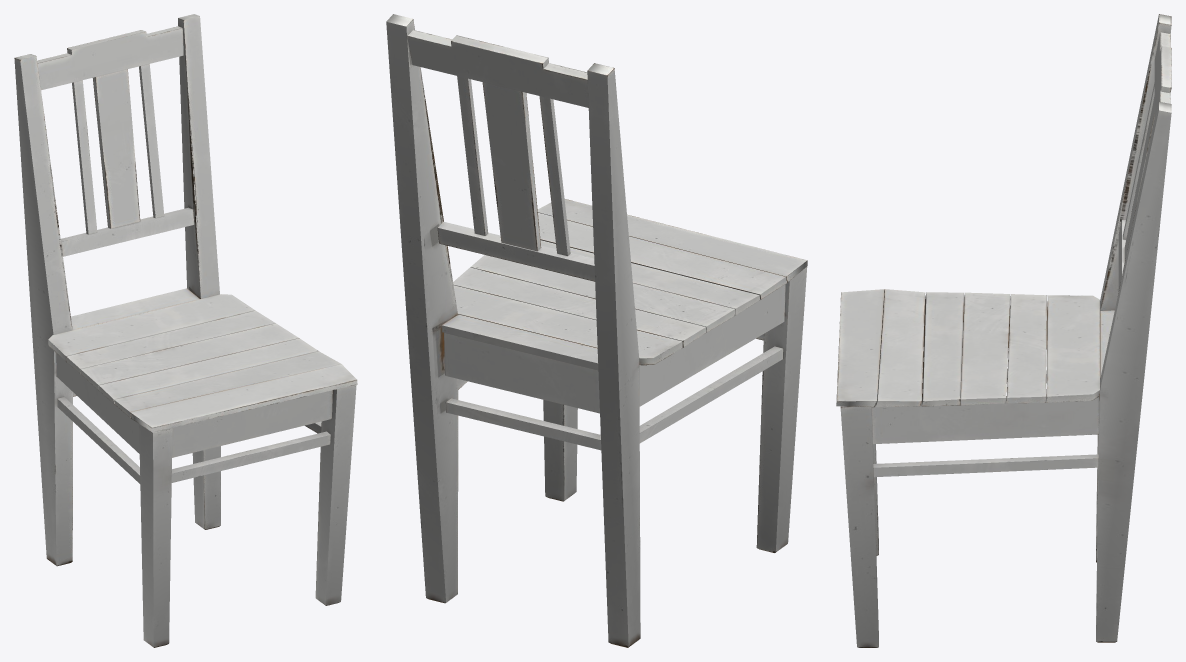
The model's file is painted_wooden_chair_01_lod2.glb.
3 views of the same model, side by side, from view 1: azimuth 30°, elevation 25°; view 2: azimuth 150°, elevation 25°; view 3: azimuth 270°, elevation 25° (orthographic). The views are drawn at different scales.
Parts seen in each view (by area): view 1: painted_wooden_chair_01; view 2: painted_wooden_chair_01; view 3: painted_wooden_chair_01.
Boxes of the visible parts, x1,y1,x2,y2 form: painted_wooden_chair_01: (14, 14, 357, 647); painted_wooden_chair_01: (386, 14, 807, 647); painted_wooden_chair_01: (836, 14, 1171, 647).
Size of the model in its own units: 0.4238 by 0.9487 by 0.537.
Materials: 1 (1 with a texture image).
